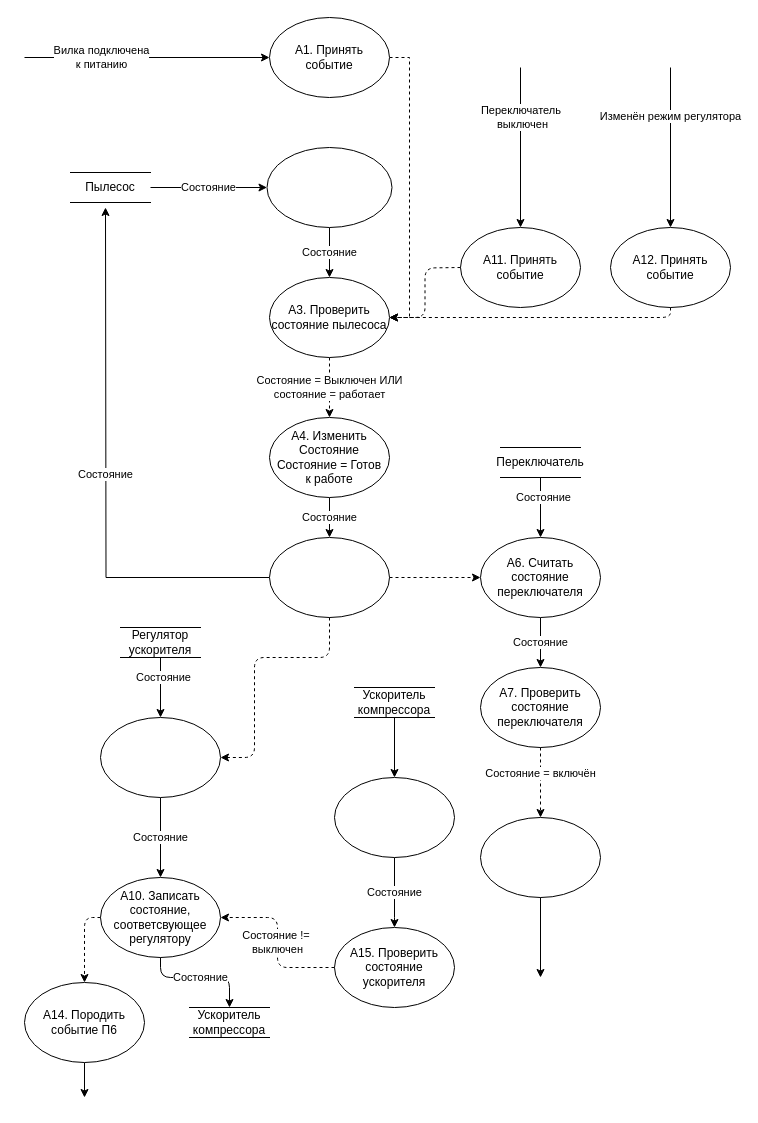
This 758x1123 diagram has some shape labels left out. Each missing label, with the box of its shape:
A13. Считать состояние ускорителя: (334, 776, 454, 858)
A2. Считать состояние пылесоса: (266, 146, 392, 228)
A5. Записать Состояние: (268, 536, 390, 618)
A8. Породить событие ПП2: (480, 816, 600, 898)
A9. Считать состояние регулятора ускорителя: (100, 716, 220, 798)
